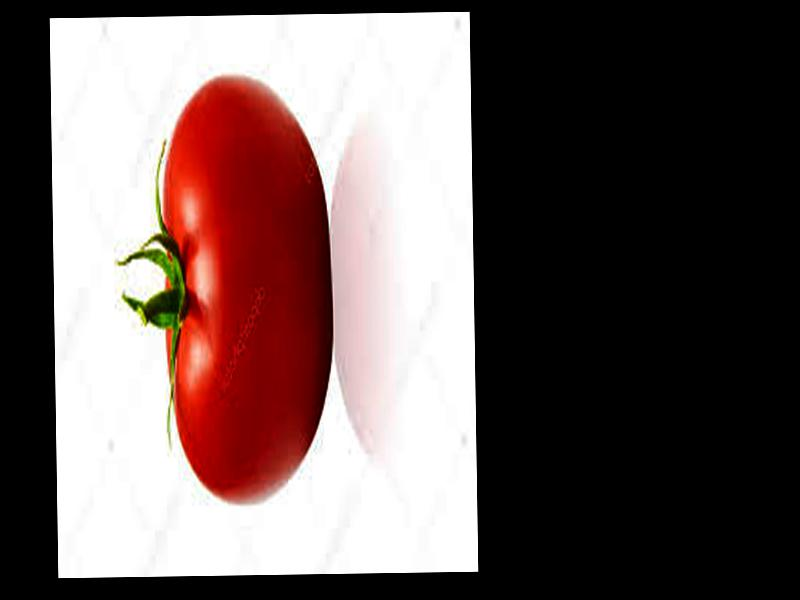Tomato: (161, 72, 334, 506)
